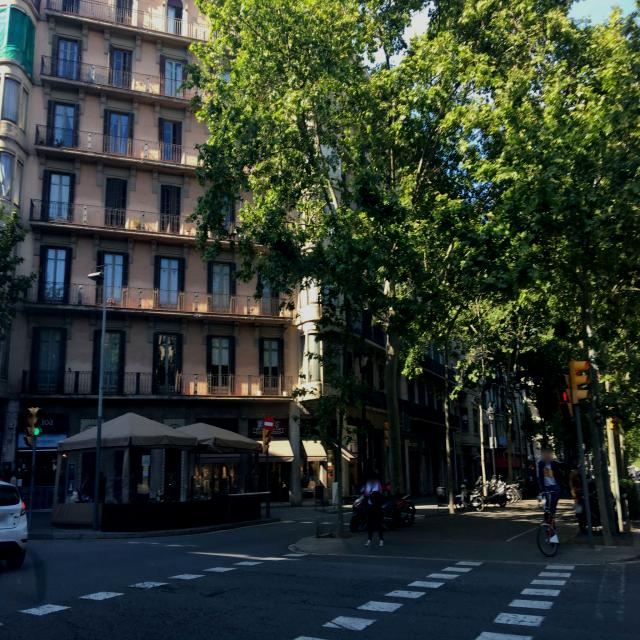bike: (352, 487, 412, 532), (537, 509, 561, 558)
car: (0, 477, 29, 576)
